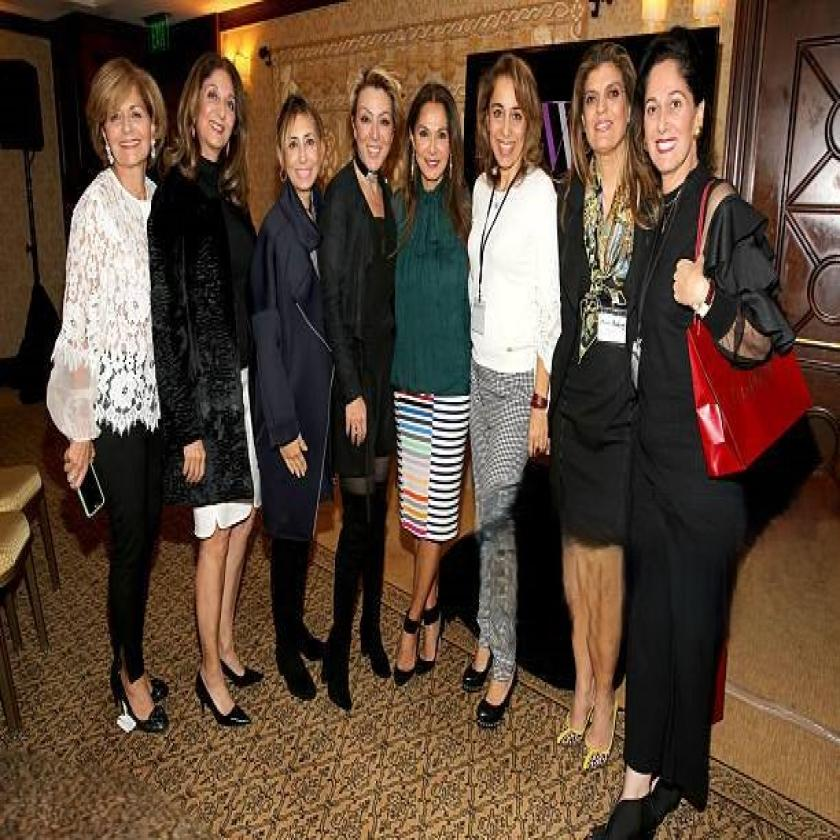Sin_casco: (168, 46, 248, 170), (644, 41, 713, 174), (470, 57, 540, 178), (578, 28, 636, 174), (92, 55, 156, 177), (409, 78, 463, 208), (274, 83, 326, 195), (349, 69, 404, 167)
